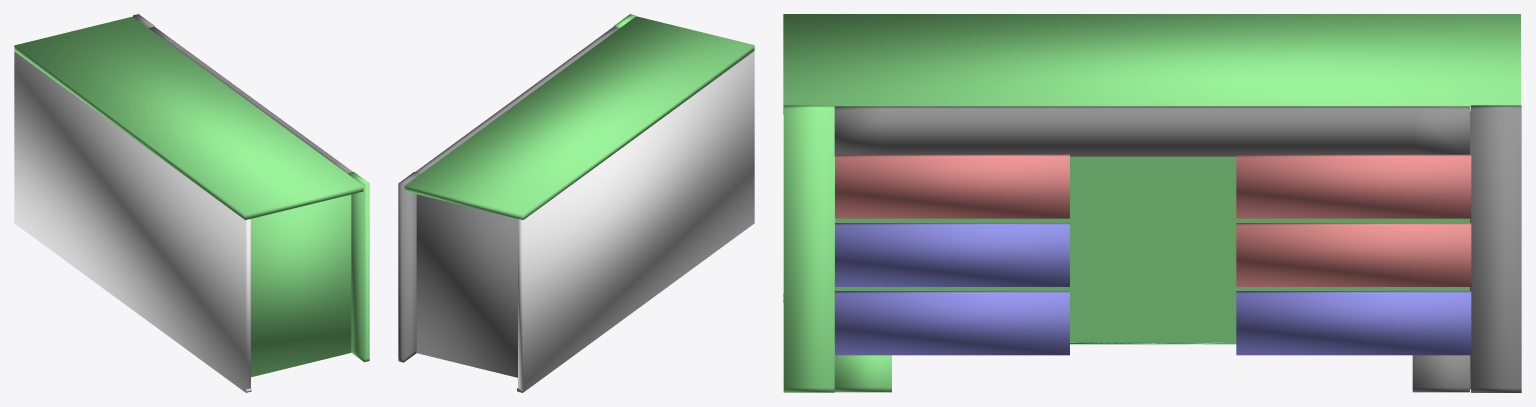
The model's file is locker.fbx.
3 views of the same model, side by side, from view 1: azimuth 30°, elevation 25°; view 2: azimuth 150°, elevation 25°; view 3: azimuth 270°, elevation 25° (orthographic). The views are drawn at different scales.
Parts seen in each view (by area): view 1: locker; view 2: locker; view 3: locker.
Part boxes in pixels (x1=…): locker: x1=14, y1=14, x2=369, y2=392; locker: x1=398, y1=14, x2=754, y2=392; locker: x1=783, y1=14, x2=1521, y2=392.
Bounding box in the file's own units: 91.3 × 122 × 285.
